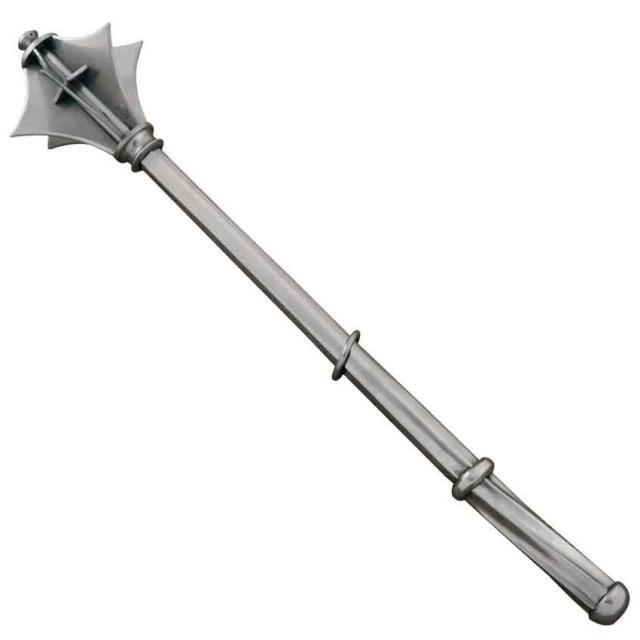mace: (11, 25, 631, 627)
